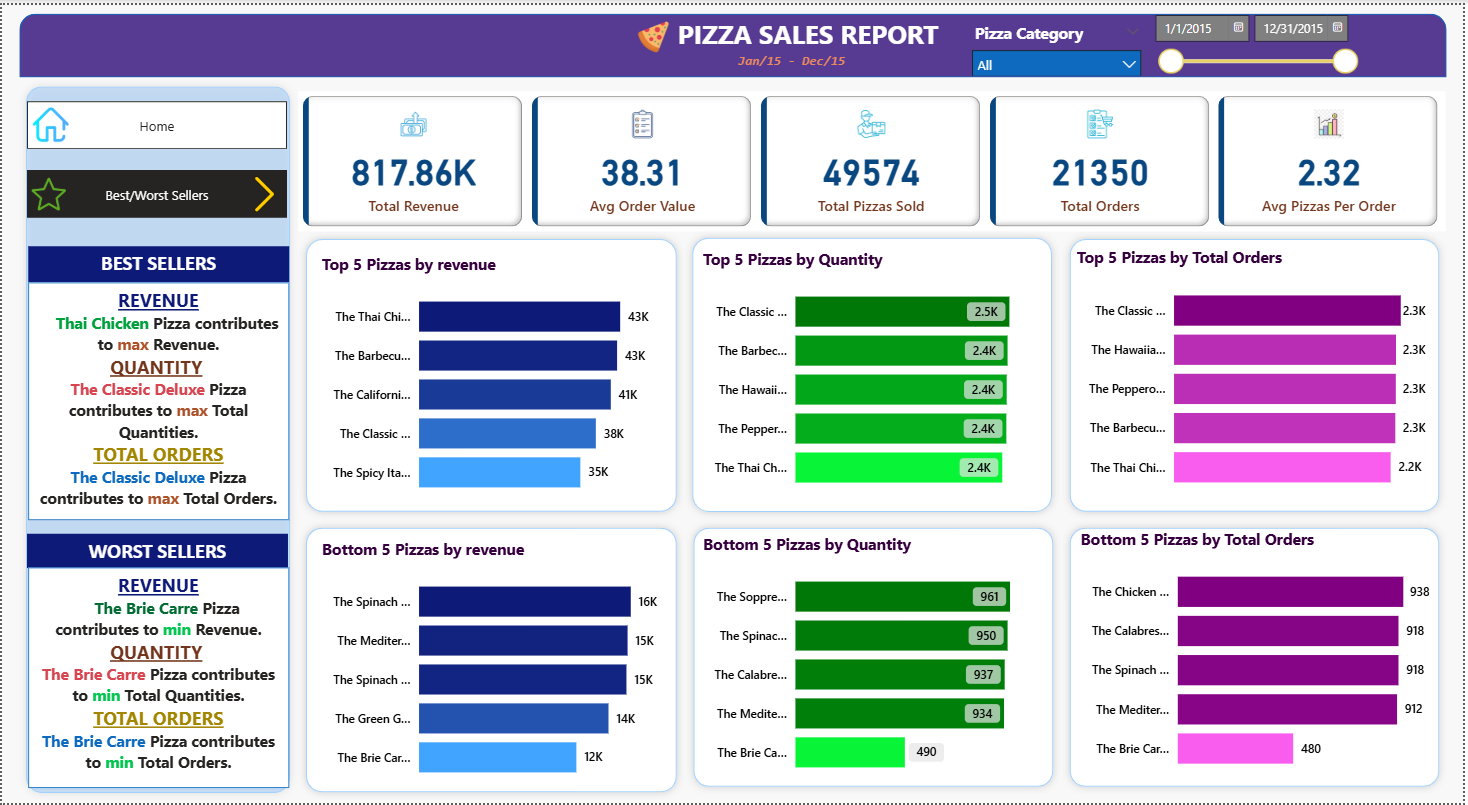

Layout of this report page (visuals, bound fields, positions):
{"tool":"powerbi","page":{"name":"Best/Worst Sellers","canvas":[1500,820],"ordinal":1},"visuals":[{"type":"cardVisual","fields":{"Data":["pizza_sales.Total Revenue","pizza_sales.Avg Order Value","pizza_sales.Total Pizzas Sold","pizza_sales.Total Orders","pizza_sales.Avg Pizzas Per Order"]},"box":[304,88,1178.7,144],"z":0},{"type":"shape","box":[17.3,9.3,1465.3,65.3],"z":1000},{"type":"textbox","box":[590.7,6.7,474.7,53.3],"z":2000},{"type":"textbox","box":[750.7,42.7,130.7,34.7],"z":3000},{"type":"image","box":[646.7,12,44,42.7],"z":4000},{"type":"shape","box":[17.1,75.7,287.1,741.4],"z":5000},{"type":"shape","box":[304.6,232.3,396.7,296.1],"z":6000},{"type":"textbox","box":[26.9,247.9,267.8,36.8],"z":16000},{"type":"textbox","box":[26.9,284.8,267.8,243.7],"z":17000},{"type":"textbox","box":[25.5,542.6,267.8,35.4],"z":18000},{"type":"textbox","box":[26.9,578,267.8,226.7],"z":19000},{"type":"slicer","fields":{"Values":["pizza_sales.pizza_category"]},"box":[985.7,12.9,194.3,60],"z":20000},{"type":"slicer","fields":{"Values":["pizza_sales.order_date"]},"box":[1171.4,0,228.6,81.4],"z":21000},{"type":"shape","box":[701.3,230.9,385.4,297.5],"z":21001},{"type":"shape","box":[1088.1,232.3,395.3,296.1],"z":21002},{"type":"shape","box":[304.6,528.4,396.7,287.6],"z":21003},{"type":"shape","box":[702.7,528.4,385.4,281.9],"z":21004},{"type":"shape","box":[1088.1,528.4,395.3,281.9],"z":21005},{"type":"barChart","title":"Top 5 Pizzas by revenue","fields":{"Category":["pizza_sales.pizza_name"],"Y":["pizza_sales.Total Revenue"]},"box":[323,253.6,366.9,263.5],"z":21006},{"type":"barChart","title":"Bottom 5 Pizzas by revenue","fields":{"Category":["pizza_sales.pizza_name"],"Y":["pizza_sales.Total Revenue"]},"box":[323,546.9,366.9,263.5],"z":21007},{"type":"barChart","title":"Top 5 Pizzas by Quantity","fields":{"Category":["pizza_sales.pizza_name"],"Y":["pizza_sales.Total Pizzas Sold"]},"box":[715.6,249.3,349,263.7],"z":21008},{"type":"barChart","title":"Bottom 5 Pizzas by Quantity","fields":{"Category":["pizza_sales.pizza_name"],"Y":["pizza_sales.Total Pizzas Sold"]},"box":[715.4,541.2,349.9,263.5],"z":21009},{"type":"barChart","title":"Top 5 Pizzas by Total Orders","fields":{"Category":["pizza_sales.pizza_name"],"Y":["pizza_sales.Total Orders"]},"box":[1099.4,247.9,368.4,264.9],"z":21010},{"type":"barChart","title":"Bottom 5 Pizzas by Total Orders","fields":{"Category":["pizza_sales.pizza_name"],"Y":["pizza_sales.Total Orders"]},"box":[1102.2,536.9,368.4,264.9],"z":21011},{"type":"pageNavigator","box":[25.5,170,267.8,49.6],"z":21012},{"type":"pageNavigator","box":[25.5,99.2,267.8,49.6],"z":21013},{"type":"image","box":[246.5,170,46.8,49.6],"z":21014},{"type":"image","box":[26.9,99.2,46.8,48.2],"z":21015},{"type":"image","box":[25.5,170,45.3,49.6],"z":21016}]}

Visuals, with their boxes in screenshot pixels (x1, y1, x2, y2), scaled from the page's 1500x820 canvas onto the 1468x805 screenshot:
cardVisual - pizza_sales.Total Revenue x pizza_sales.Avg Order Value: {"left": 298, "top": 86, "right": 1451, "bottom": 228}
shape: {"left": 17, "top": 9, "right": 1451, "bottom": 73}
textbox: {"left": 578, "top": 7, "right": 1043, "bottom": 59}
textbox: {"left": 735, "top": 42, "right": 863, "bottom": 76}
image: {"left": 633, "top": 12, "right": 676, "bottom": 54}
shape: {"left": 17, "top": 74, "right": 298, "bottom": 802}
shape: {"left": 298, "top": 228, "right": 686, "bottom": 519}
textbox: {"left": 26, "top": 243, "right": 288, "bottom": 279}
textbox: {"left": 26, "top": 280, "right": 288, "bottom": 519}
textbox: {"left": 25, "top": 533, "right": 287, "bottom": 567}
textbox: {"left": 26, "top": 567, "right": 288, "bottom": 790}
slicer - pizza_sales.pizza_category: {"left": 965, "top": 13, "right": 1155, "bottom": 72}
slicer - pizza_sales.order_date: {"left": 1146, "top": 0, "right": 1370, "bottom": 80}
shape: {"left": 686, "top": 227, "right": 1064, "bottom": 519}
shape: {"left": 1065, "top": 228, "right": 1452, "bottom": 519}
shape: {"left": 298, "top": 519, "right": 686, "bottom": 801}
shape: {"left": 688, "top": 519, "right": 1065, "bottom": 795}
shape: {"left": 1065, "top": 519, "right": 1452, "bottom": 795}
"Top 5 Pizzas by revenue" barChart: {"left": 316, "top": 249, "right": 675, "bottom": 508}
"Bottom 5 Pizzas by revenue" barChart: {"left": 316, "top": 537, "right": 675, "bottom": 796}
"Top 5 Pizzas by Quantity" barChart: {"left": 700, "top": 245, "right": 1042, "bottom": 504}
"Bottom 5 Pizzas by Quantity" barChart: {"left": 700, "top": 531, "right": 1043, "bottom": 790}
"Top 5 Pizzas by Total Orders" barChart: {"left": 1076, "top": 243, "right": 1436, "bottom": 503}
"Bottom 5 Pizzas by Total Orders" barChart: {"left": 1079, "top": 527, "right": 1439, "bottom": 787}
pageNavigator: {"left": 25, "top": 167, "right": 287, "bottom": 216}
pageNavigator: {"left": 25, "top": 97, "right": 287, "bottom": 146}
image: {"left": 241, "top": 167, "right": 287, "bottom": 216}
image: {"left": 26, "top": 97, "right": 72, "bottom": 145}
image: {"left": 25, "top": 167, "right": 69, "bottom": 216}
